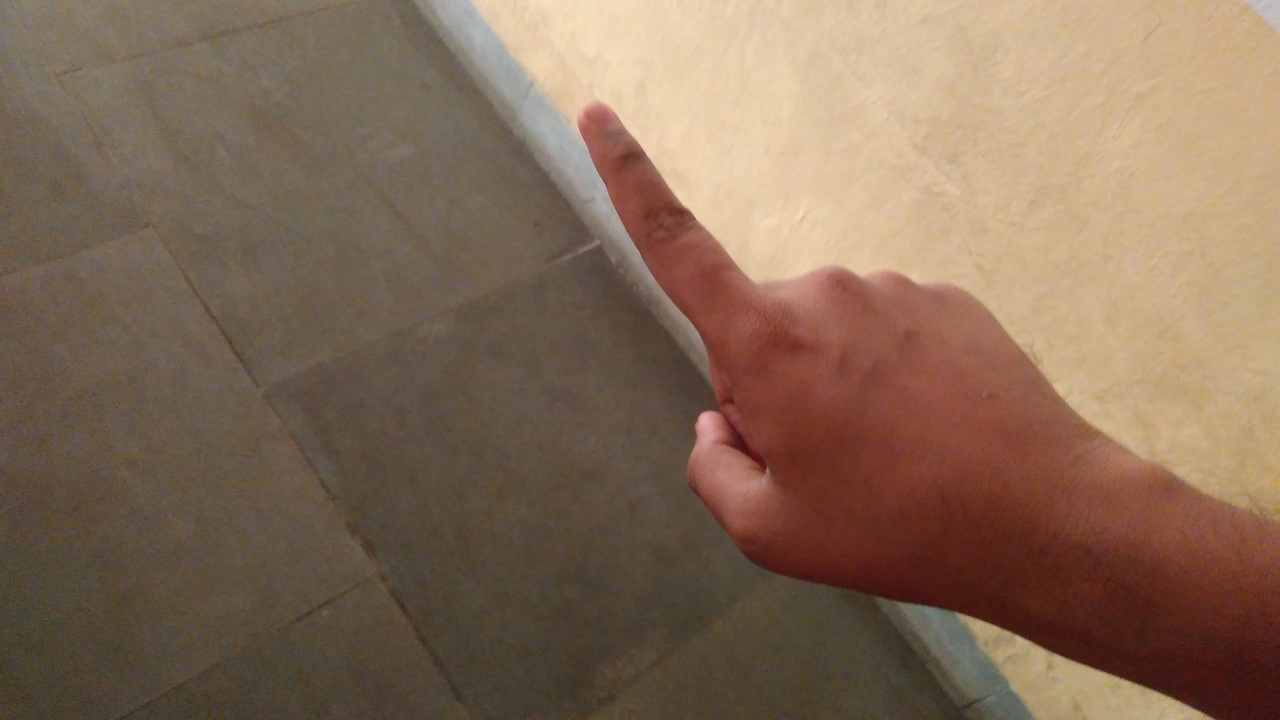fingertip: (574, 94, 634, 142)
